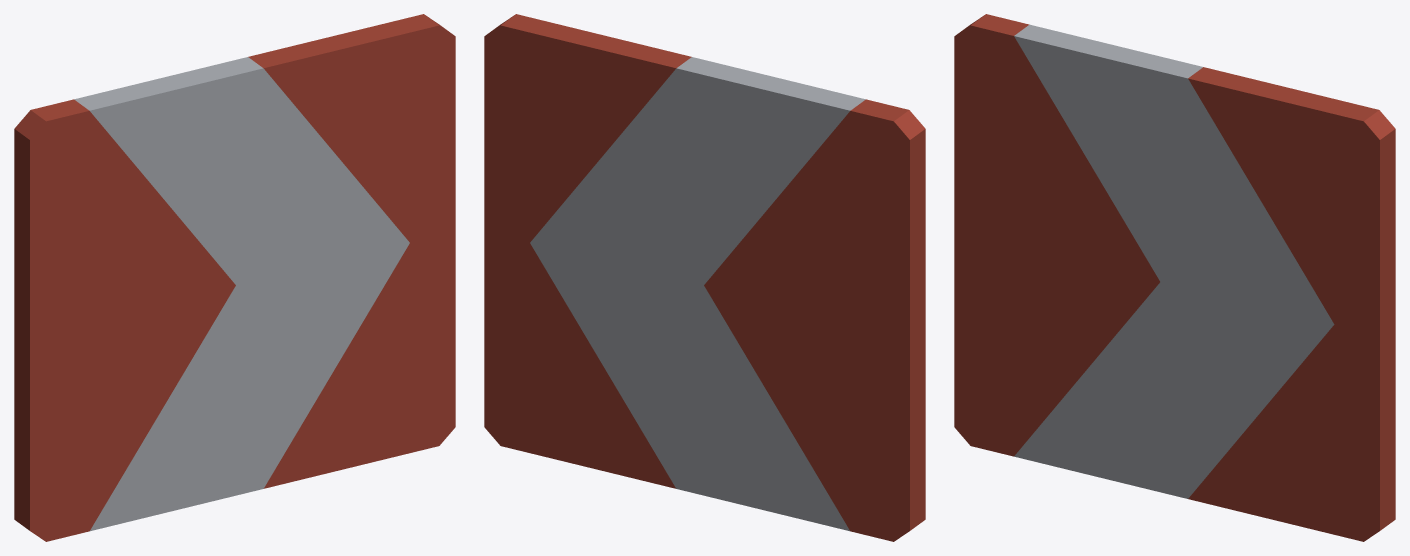
Rendered from SM_Prop_Sign_08.glb.
The picture shows the model from 3 angles, left to right: view 1: azimuth 30°, elevation 25°; view 2: azimuth 150°, elevation 25°; view 3: azimuth 330°, elevation 25°; orthographic projection.
Parts seen in each view (by area): view 1: SM_Prop_Sign_08; view 2: SM_Prop_Sign_08; view 3: SM_Prop_Sign_08.
Boxes of the visible parts, x1,y1,x2,y2 form: SM_Prop_Sign_08: [14, 14, 455, 541]; SM_Prop_Sign_08: [484, 14, 925, 541]; SM_Prop_Sign_08: [954, 14, 1395, 541].
Bounding box in the file's own units: 0.4248 × 0.4012 × 0.027.
Materials: 1 (1 with a texture image).
